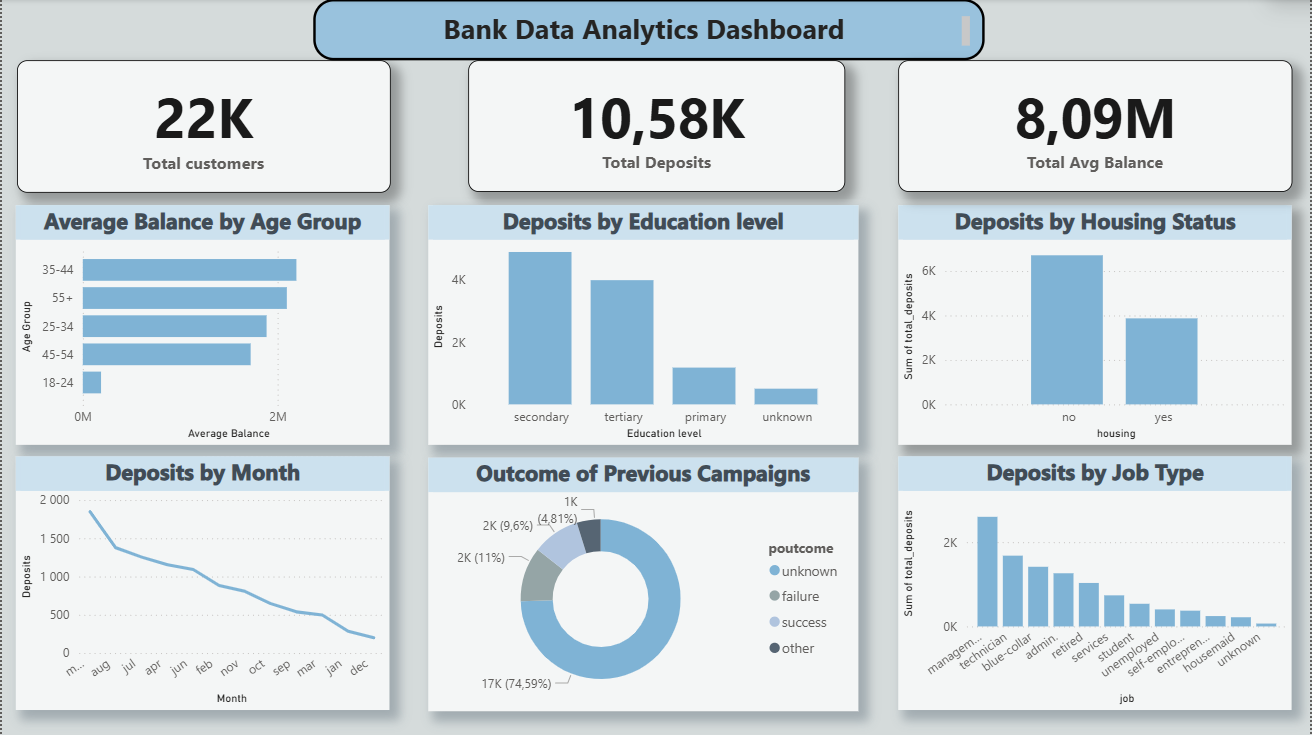

This screenshot's page, from the dashboard's own definition file:
{"tool":"powerbi","page":{"name":"Dashboard","canvas":[1280,720],"ordinal":0},"visuals":[{"type":"card","fields":{"Values":["Sum(bank bank_summary_powerbi.total_customers)"]},"box":[15.1,60.4,365,129],"z":0},{"type":"card","fields":{"Values":["Sum(bank bank_summary_powerbi.total_deposits)"]},"box":[455.6,60.4,369.1,129],"z":1000},{"type":"barChart","fields":{"Y":["Sum(bank bank_summary_powerbi.avg_balance)"],"Category":["bank bank_summary_powerbi.age_group"]},"box":[13.5,201.8,365.6,234.8],"z":2000},{"type":"clusteredColumnChart","fields":{"Category":["bank bank_summary_powerbi.education"],"Y":["Sum(bank bank_summary_powerbi.total_deposits)"]},"box":[417,201.8,420.7,234.8],"z":3000},{"type":"lineChart","fields":{"Category":["bank bank_summary_powerbi.month"],"Y":["Sum(bank bank_summary_powerbi.total_deposits)"]},"box":[13.5,447.6,365.6,248.2],"z":4000},{"type":"donutChart","title":"Outcome of Previous Campaigns","fields":{"Category":["bank bank_summary_powerbi.poutcome"],"Y":["Sum(bank bank_summary_powerbi.total_customers)"]},"box":[417,448.8,420.7,248.2],"z":5000},{"type":"columnChart","title":"Deposits by Housing Status","fields":{"Category":["bank bank_summary_powerbi.housing"],"Y":["Sum(bank bank_summary_powerbi.total_deposits)"]},"box":[876.8,201.8,385.2,234.8],"z":6000},{"type":"clusteredColumnChart","title":"Deposits by Job Type","fields":{"Category":["bank bank_summary_powerbi.job"],"Y":["Sum(bank bank_summary_powerbi.total_deposits)"]},"box":[876.8,447.6,385.2,248.2],"z":7000},{"type":"textbox","box":[304.5,0,656.7,59.9],"z":8000},{"type":"card","fields":{"Values":["Sum(bank bank_summary_powerbi.avg_balance)"]},"box":[876.8,60.4,385.6,129],"z":8001}]}

Visuals, with their boxes in screenshot pixels (x1, y1, x2, y2), scaled from the page's 1280x720 canvas onto the 1312x735 screenshot:
card - Sum(bank bank_summary_powerbi.total_customers): <region>15, 62, 390, 193</region>
card - Sum(bank bank_summary_powerbi.total_deposits): <region>467, 62, 845, 193</region>
barChart - Sum(bank bank_summary_powerbi.avg_balance) x bank bank_summary_powerbi.age_group: <region>14, 206, 389, 446</region>
clusteredColumnChart - bank bank_summary_powerbi.education x Sum(bank bank_summary_powerbi.total_deposits): <region>427, 206, 859, 446</region>
lineChart - bank bank_summary_powerbi.month x Sum(bank bank_summary_powerbi.total_deposits): <region>14, 457, 389, 710</region>
"Outcome of Previous Campaigns" donutChart: <region>427, 458, 859, 712</region>
"Deposits by Housing Status" columnChart: <region>899, 206, 1294, 446</region>
"Deposits by Job Type" clusteredColumnChart: <region>899, 457, 1294, 710</region>
textbox: <region>312, 0, 985, 61</region>
card - Sum(bank bank_summary_powerbi.avg_balance): <region>899, 62, 1294, 193</region>
